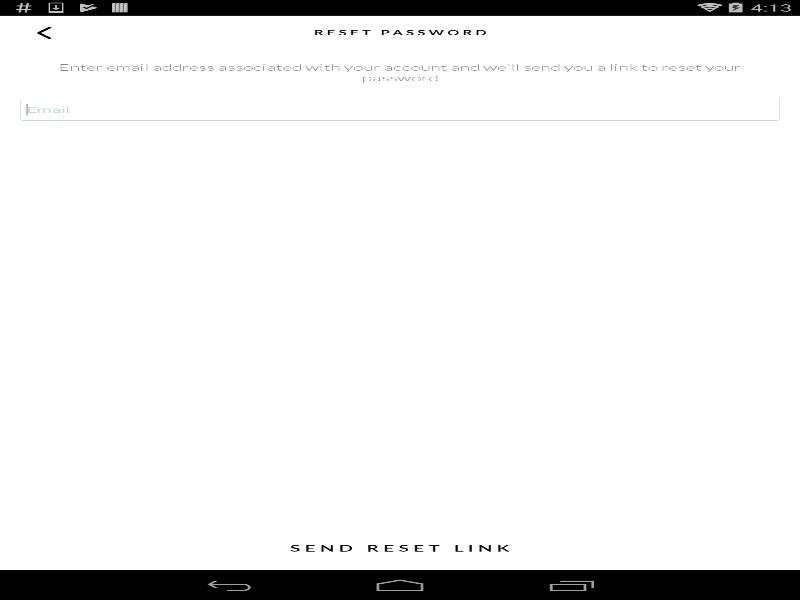Button: (10, 15, 77, 50), (722, 15, 789, 50)
Input: (20, 98, 780, 120)
